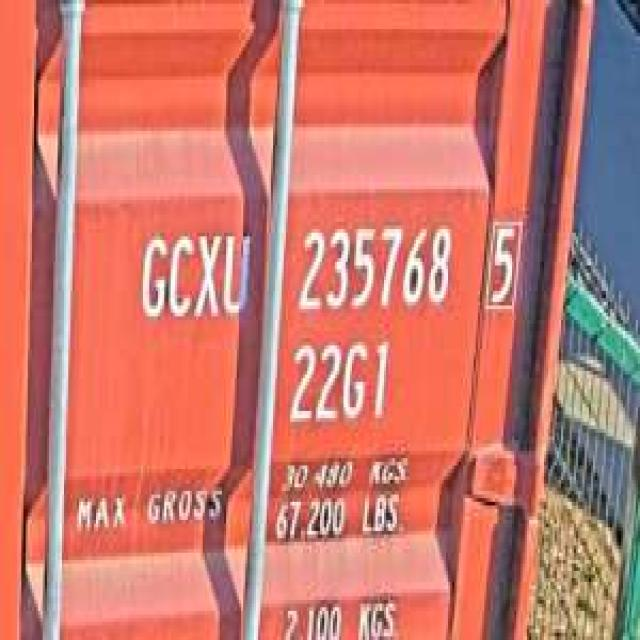dv: (482, 208, 525, 316)
owner: (134, 218, 254, 331)
serial: (292, 211, 457, 320)
size: (284, 331, 392, 433)
